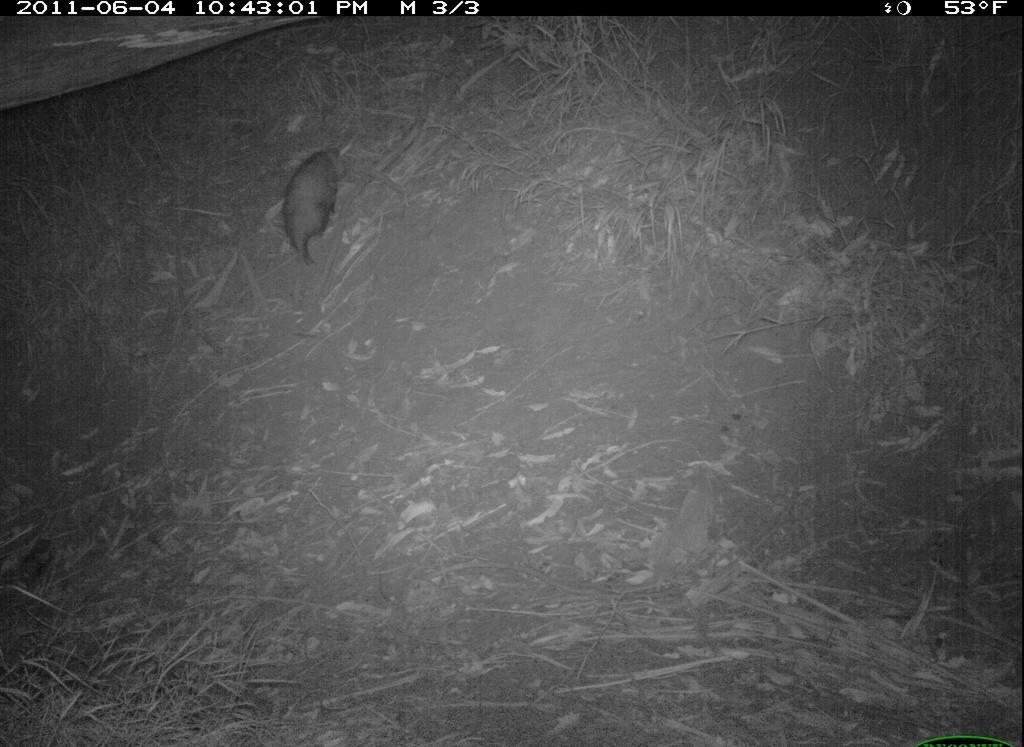opossum: (272, 131, 358, 268)
